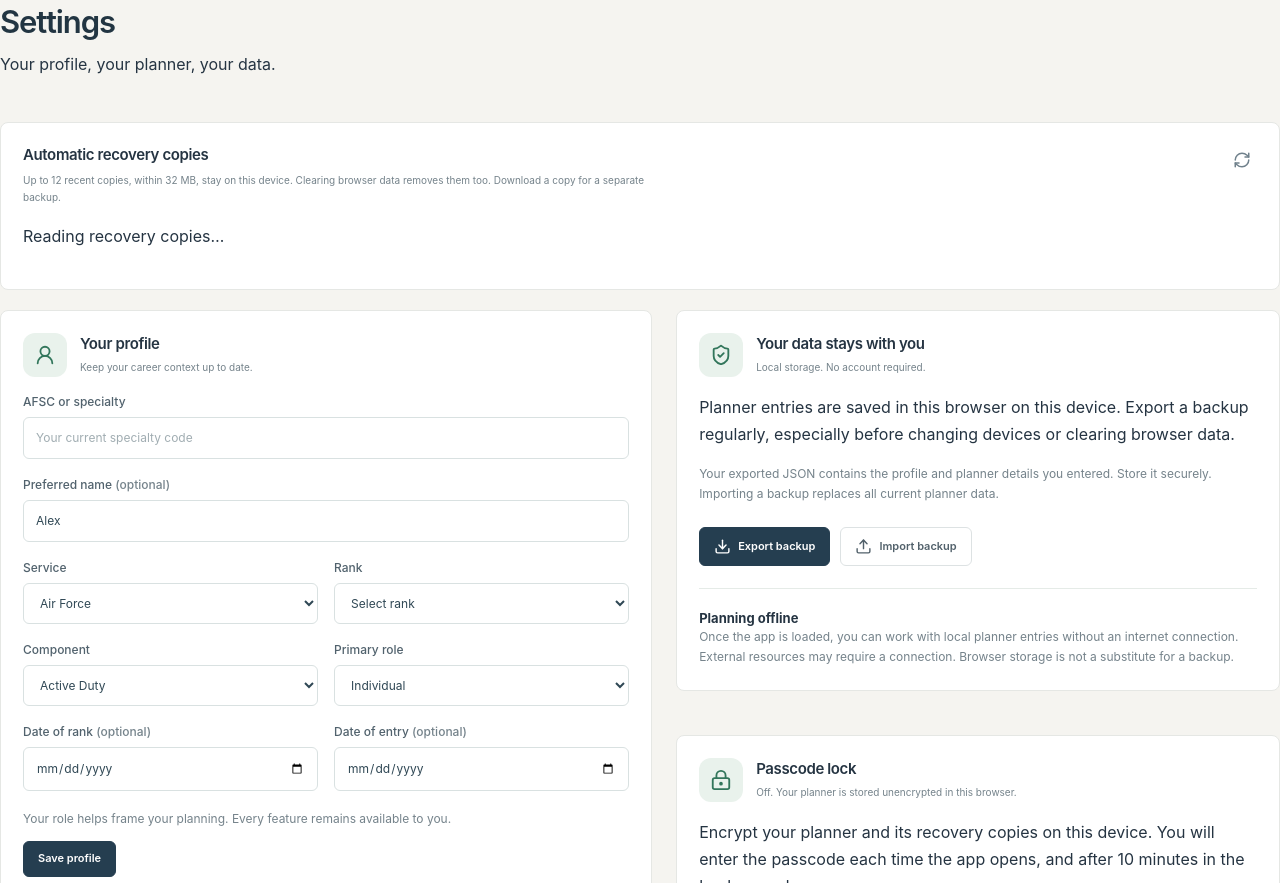
Test: profile and data safeguards › rejects reversed career dates without overwriting the saved profile
This screenshot has width=1280, height=883.
Replace the text in the field labelled "Preferred name (optional)" with "Changed" at (326, 521), box [23, 500, 629, 542]
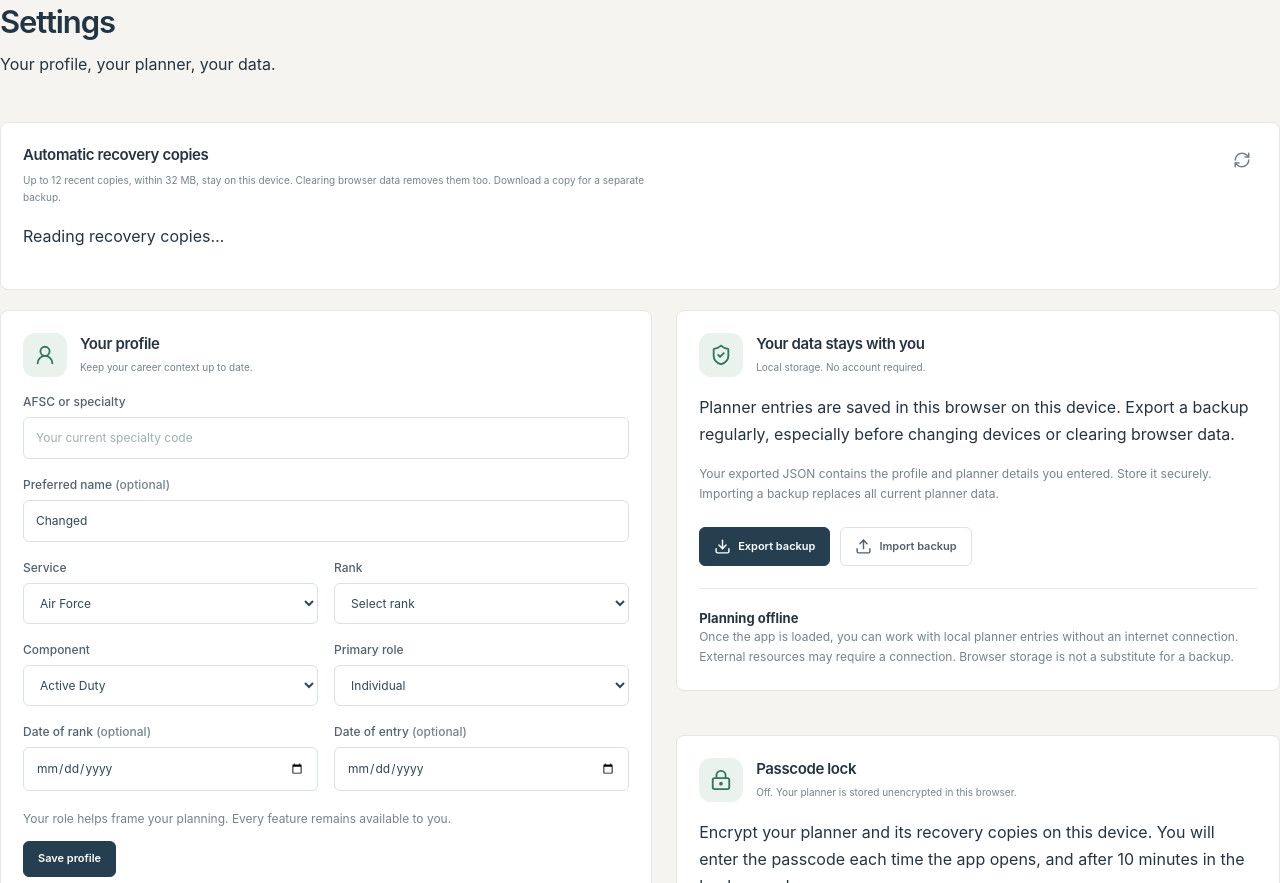
Type "2023-01-01" into the date field labelled "Date of rank (optional)" at (171, 769), box [23, 747, 318, 791]
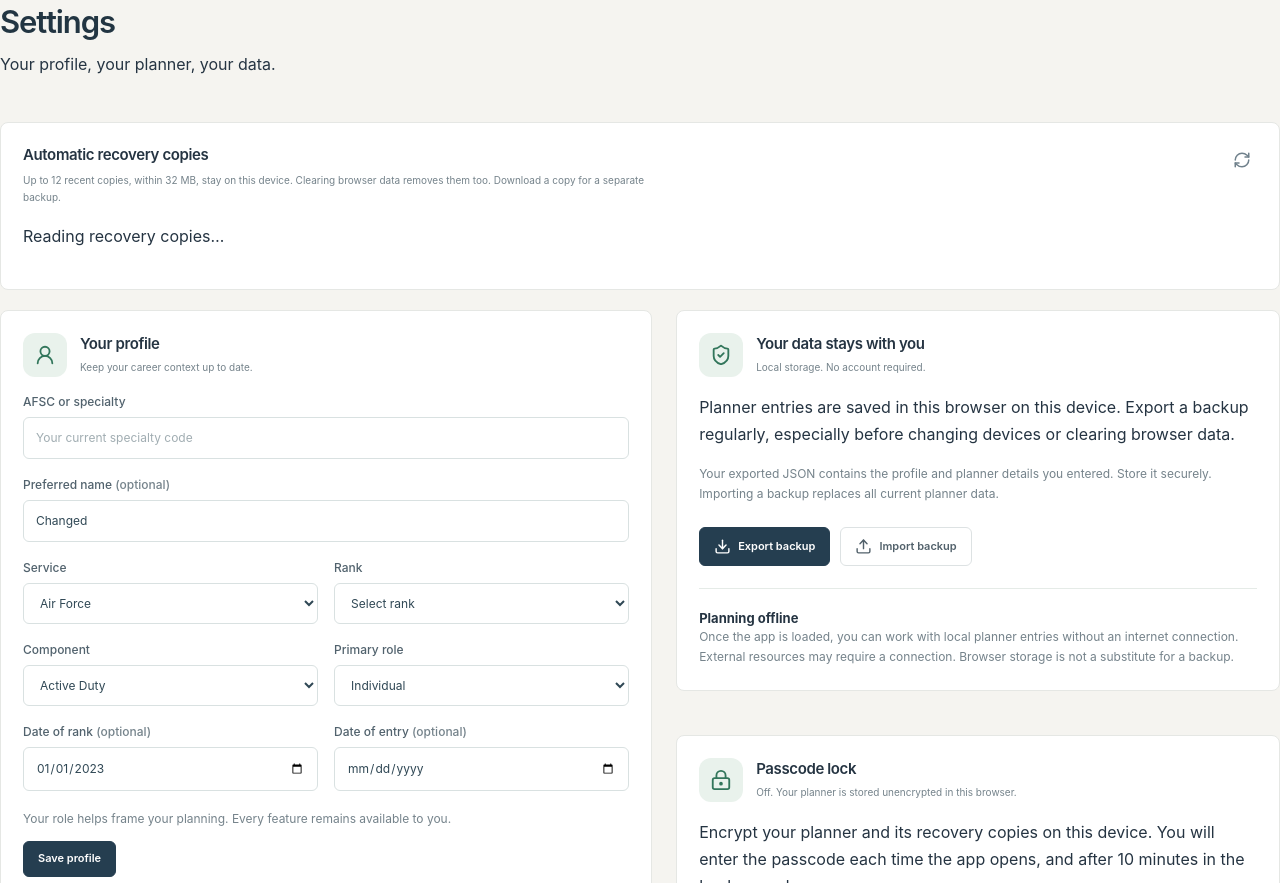
Type "2024-01-01" into the date field labelled "Date of entry (optional)" at (482, 769), box [334, 747, 629, 791]
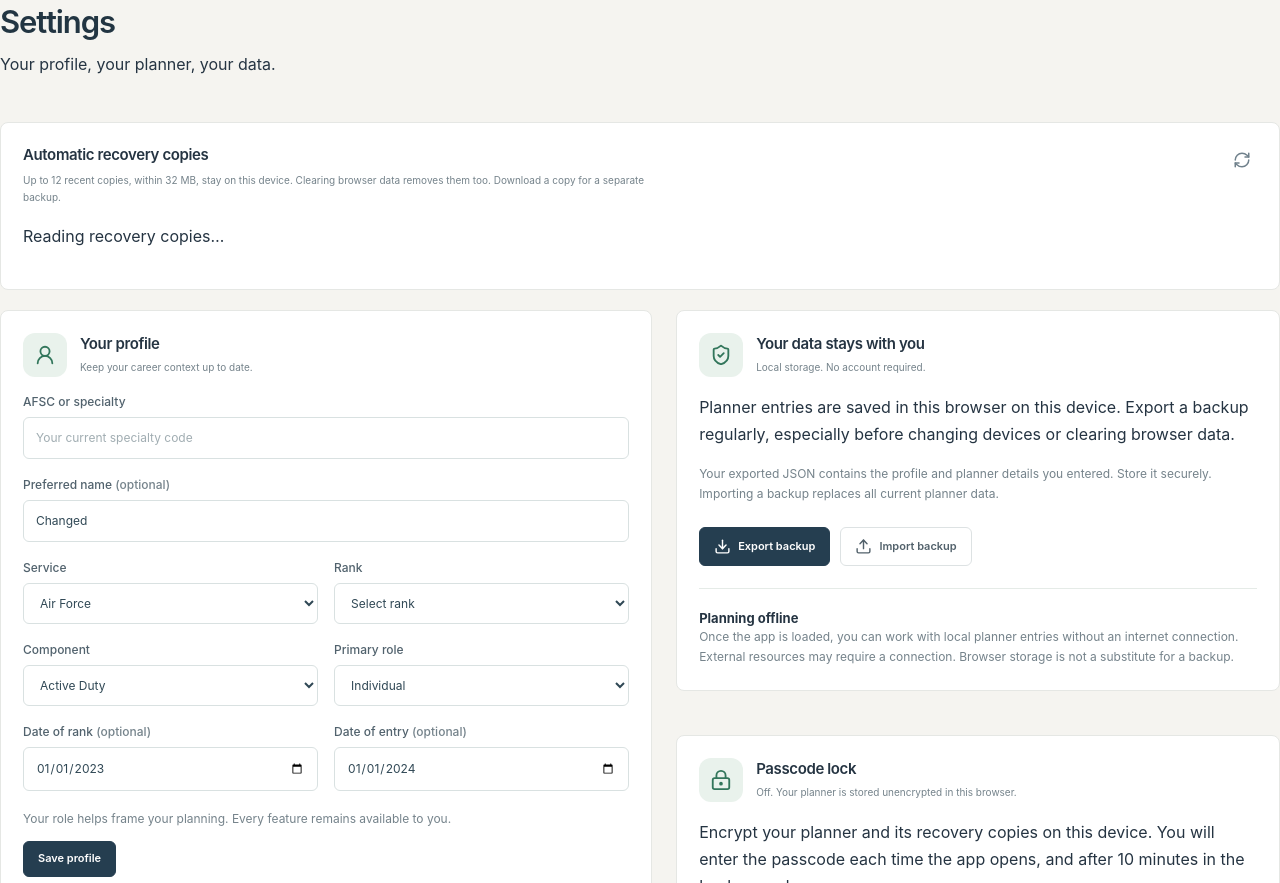
Click the button "Save profile" at (70, 859), box [23, 841, 116, 877]
(page scrolled)
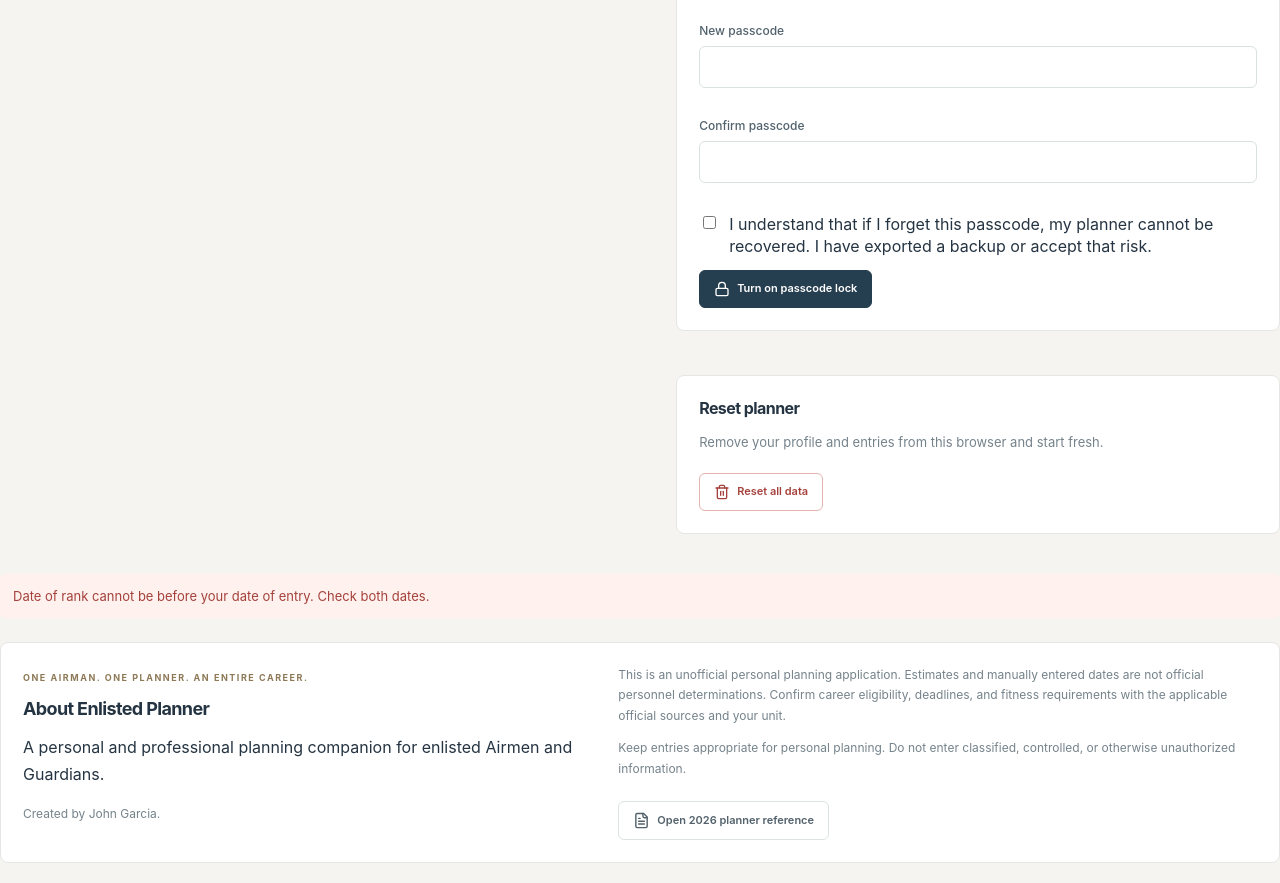
Check: the message shows "cannot be before", box [13, 588, 429, 604]
